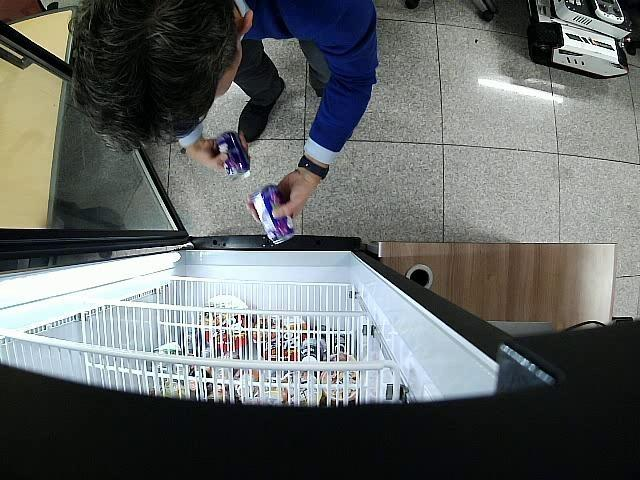14_welchsGrape: (250, 185, 294, 244), (216, 132, 250, 176)
